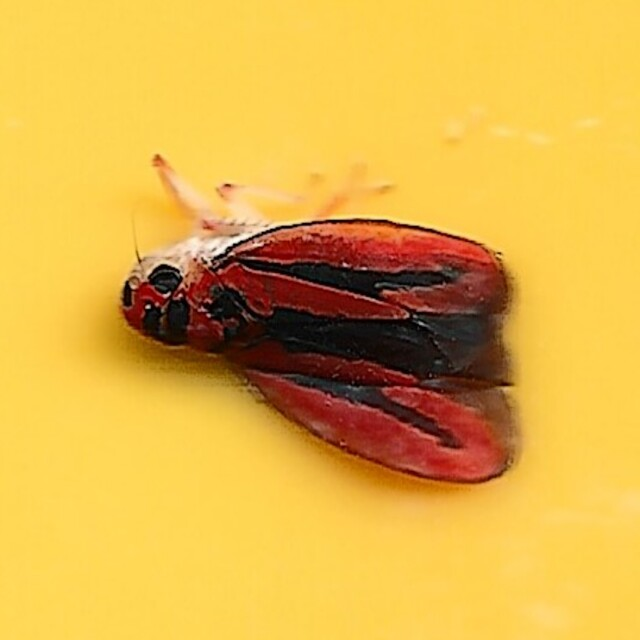Hemiptera: (119, 148, 521, 492)
